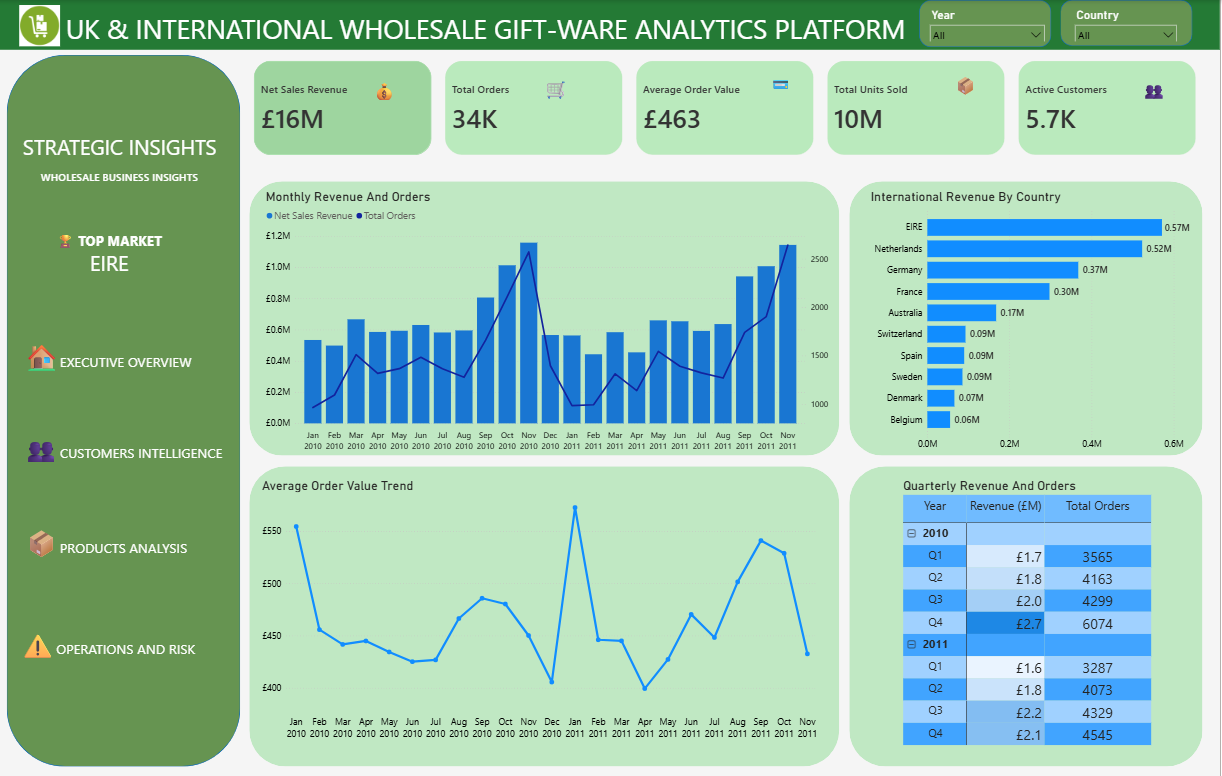

This screenshot's page, from the dashboard's own definition file:
{"tool":"powerbi","page":{"name":"Executive Overview","canvas":[2200,1400],"ordinal":0},"visuals":[{"type":"textbox","box":[0,0,2199.2,89.2],"z":0},{"type":"image","box":[14.8,8.5,118.7,74.2],"z":1000},{"type":"shape","box":[15.3,98.5,420.4,1280.9],"z":2000},{"type":"textbox","box":[41.6,602.1,372.2,83.2],"z":3000},{"type":"textbox","box":[39.4,766.3,409.4,94.1],"z":4000},{"type":"textbox","box":[39.4,939.3,356.9,94.1],"z":5000},{"type":"textbox","box":[32.8,1121,372.2,96.3],"z":6000},{"type":"textbox","box":[0,216.8,437.9,142.3],"z":7000},{"type":"cardVisual","fields":{"Data":["_Measures.Net Sales Revenue","_Measures.Total Orders","_Measures.Average Order Value","_Measures.Total Units Sold","_Measures.Active Customers"]},"box":[451,98.5,1716.6,190.5],"z":8000},{"type":"textbox","box":[667.8,137.9,63.5,56.9],"z":9000},{"type":"textbox","box":[976.5,133.6,56.9,54.7],"z":10000},{"type":"textbox","box":[1386,124.8,46,54.7],"z":11000},{"type":"textbox","box":[1714.4,127,61.3,61.3],"z":12000},{"type":"textbox","box":[2053.7,133.6,56.9,61.3],"z":13000},{"type":"shape","box":[451.5,326.5,1062.1,493.9],"z":14000},{"type":"lineClusteredColumnComboChart","title":"Monthly Revenue And Orders","fields":{"Category":["Dim_Date.Month Year"],"Y":["_Measures.Net Sales Revenue"],"Y2":["_Measures.Total Orders"]},"box":[477,339.2,1026,481.2],"z":15000},{"type":"shape","box":[1532.7,326.5,636,493.9],"z":16000},{"type":"clusteredBarChart","title":"International Revenue By Country","fields":{"Y":["_Measures.Net Sales Revenue"],"Category":["vw_Valid_Sales_Only.Country"]},"box":[1565.5,339.4,602.1,481.7],"z":17000},{"type":"shape","box":[451.5,839.5,1062.1,540.6],"z":18000},{"type":"lineChart","title":"Average Order Value Trend","fields":{"Y":["_Measures.Average Order Value"],"Category":["Dim_Date.Year","Dim_Date.Quarter","Dim_Date.Month Year","vw_Valid_Sales_Only.InvoiceDate"]},"box":[470.7,860.5,1011.5,479.5],"z":19000},{"type":"shape","box":[1532.7,839.5,636,540.6],"z":20000},{"type":"pivotTable","title":"Quarterly Revenue And Orders","fields":{"Rows":["Dim_Date.Year","Dim_Date.Quarter"],"Values":["_Measures.Net Sales Revenue (M)","_Measures.Total Orders"]},"box":[1624.6,860.5,486.1,494.8],"z":21000},{"type":"shape","box":[1657.7,0,237.4,84.8],"z":22000},{"type":"slicer","fields":{"Values":["Dim_Date.Year"]},"box":[1668.3,8.5,226.8,65.7],"z":23000},{"type":"shape","box":[1912.1,0,237.4,82.7],"z":24000},{"type":"slicer","fields":{"Values":["Dim_Country.Country"]},"box":[1929.1,8.5,203.5,65.7],"z":25000},{"type":"textbox","box":[70.1,411.6,260.6,113.9],"z":26000}]}

Visuals, with their boxes in screenshot pixels (x1, y1, x2, y2), scaled from the page's 2200x1400 canvas onto the 1222x776 screenshot:
textbox: 0,0,1221,49
image: 8,5,74,46
shape: 8,55,242,765
textbox: 23,334,230,380
textbox: 22,425,249,477
textbox: 22,521,220,573
textbox: 18,621,225,675
textbox: 0,120,243,199
cardVisual - _Measures.Net Sales Revenue x _Measures.Total Orders: 251,55,1204,160
textbox: 371,76,406,108
textbox: 542,74,574,104
textbox: 770,69,795,99
textbox: 952,70,986,104
textbox: 1141,74,1172,108
shape: 251,181,841,455
"Monthly Revenue And Orders" lineClusteredColumnComboChart: 265,188,835,455
shape: 851,181,1205,455
"International Revenue By Country" clusteredBarChart: 870,188,1204,455
shape: 251,465,841,765
"Average Order Value Trend" lineChart: 261,477,823,743
shape: 851,465,1205,765
"Quarterly Revenue And Orders" pivotTable: 902,477,1172,751
shape: 921,0,1053,47
slicer - Dim_Date.Year: 927,5,1053,41
shape: 1062,0,1194,46
slicer - Dim_Country.Country: 1072,5,1185,41
textbox: 39,228,184,291
